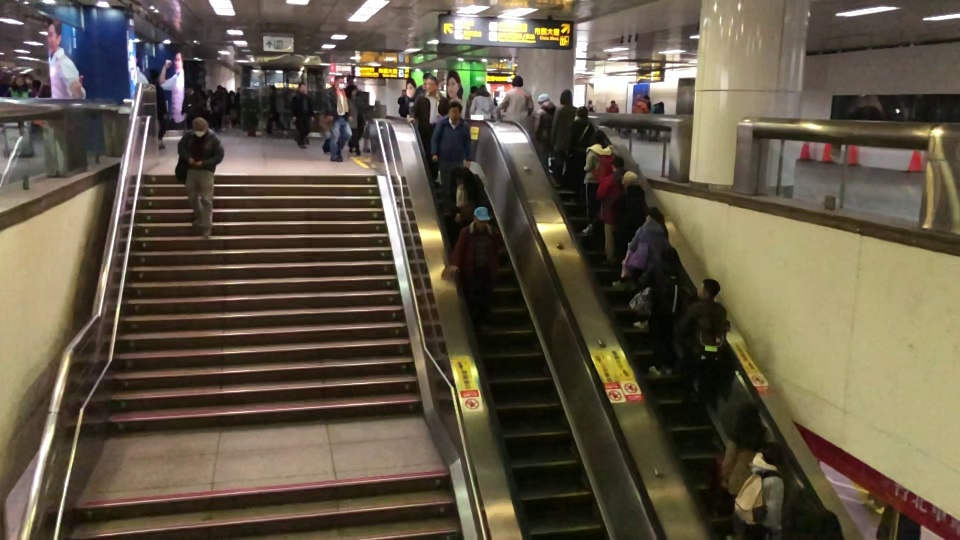person_head: (805, 505, 845, 540), (733, 399, 760, 430), (762, 441, 783, 466), (699, 278, 721, 301), (659, 246, 680, 270), (471, 206, 490, 229), (644, 205, 664, 224), (451, 165, 469, 185), (447, 100, 463, 122), (621, 170, 639, 189), (191, 117, 208, 137), (590, 129, 608, 147), (424, 75, 438, 95), (610, 155, 625, 173), (559, 89, 573, 106), (575, 105, 589, 121), (345, 84, 358, 100), (421, 73, 433, 90), (147, 68, 160, 83), (537, 92, 550, 107), (333, 75, 344, 90), (512, 75, 524, 88), (297, 81, 308, 95), (14, 75, 25, 87), (31, 78, 42, 89), (478, 84, 488, 96), (346, 74, 355, 86), (268, 84, 277, 95), (469, 85, 478, 94), (657, 100, 664, 109), (186, 87, 193, 95), (216, 84, 222, 93), (400, 89, 407, 96), (609, 100, 616, 107), (207, 89, 213, 97), (643, 95, 649, 103), (229, 90, 235, 96), (236, 87, 240, 94), (587, 99, 592, 104)
person_vbox: (673, 278, 728, 419), (718, 399, 768, 540), (446, 206, 501, 333), (173, 117, 224, 240), (645, 246, 688, 377), (628, 204, 669, 330), (430, 100, 473, 216), (407, 74, 449, 188), (610, 170, 647, 288), (595, 154, 628, 269), (580, 129, 615, 234), (749, 441, 786, 540), (561, 105, 596, 203), (320, 75, 353, 163), (550, 88, 578, 188), (447, 165, 485, 233), (529, 92, 556, 174), (492, 74, 534, 121), (875, 502, 922, 540), (147, 68, 168, 149), (290, 81, 315, 149), (345, 84, 367, 156), (262, 84, 288, 138), (181, 86, 204, 129), (469, 84, 495, 120), (632, 95, 650, 140), (210, 84, 225, 134), (647, 100, 664, 142), (3, 75, 34, 97), (411, 72, 433, 102), (464, 84, 478, 121), (396, 89, 411, 118), (605, 100, 619, 131), (227, 89, 236, 128), (205, 89, 213, 128), (30, 79, 42, 98), (236, 87, 241, 129), (585, 99, 595, 112)
